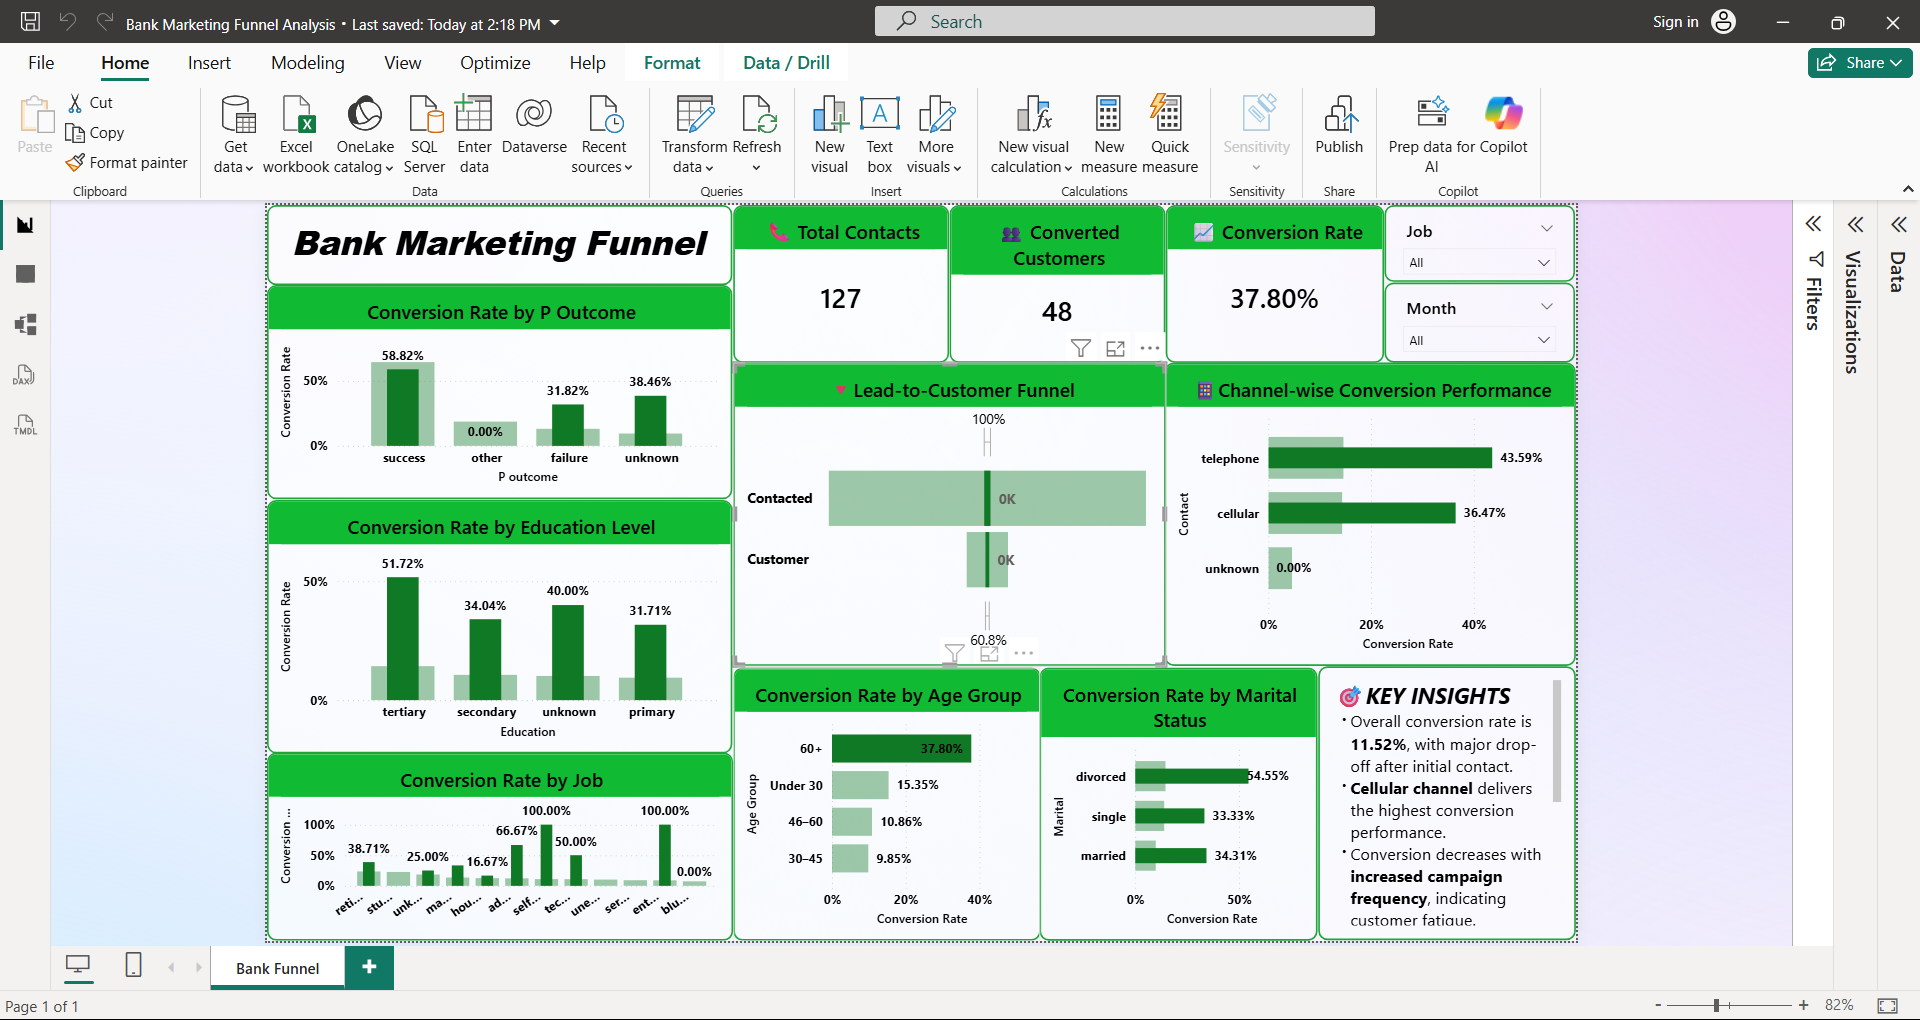

The dashboard page shown, as its layout file describes it:
{"tool":"powerbi","page":{"name":"Page 1","canvas":[1280,720],"ordinal":0},"visuals":[{"type":"card","title":"Total Contacts","fields":{"Values":["Cleaned_Bank_data.Total Contacts"]},"box":[455.6,0,211.3,153.7],"z":0},{"type":"card","title":"Converted Customers","fields":{"Values":["Cleaned_Bank_data.Total Customers"]},"box":[666.9,0,219.6,153.7],"z":1000},{"type":"card","title":"Conversion Rate","fields":{"Values":["Cleaned_Bank_data.Conversion Rate"]},"box":[886.6,0,210.3,154.1],"z":2000},{"type":"funnel","title":"Lead-to-Customer Funnel","fields":{"Y":["Cleaned_Bank_data.Funnel Count"],"Category":["Cleaned_Bank_data.Funnel Stage"]},"box":[455.6,153.7,413,299.1],"z":3000},{"type":"clusteredBarChart","title":"Channel-wise Conversion Performance","fields":{"Category":["Cleaned_Bank_data.Contact"],"Y":["Cleaned_Bank_data.Conversion Rate"]},"box":[868.6,153.7,411.7,299.1],"z":4000},{"type":"slicer","fields":{"Values":["Cleaned_Bank_data.Month"]},"box":[1093.7,75.5,186.6,78.2],"z":5000},{"type":"slicer","fields":{"Values":["Cleaned_Bank_data.Job"]},"box":[1093.7,0,186.6,75.5],"z":6000},{"type":"clusteredBarChart","title":"Conversion Rate by Marital Status","fields":{"Category":["Cleaned_Bank_data.Marital"],"Y":["Cleaned_Bank_data.Conversion Rate"]},"box":[756.1,452.8,271.7,267.6],"z":7000},{"type":"clusteredColumnChart","title":"Conversion Rate by Education Level","fields":{"Category":["Cleaned_Bank_data.Education"],"Y":["Cleaned_Bank_data.Conversion Rate"]},"box":[0,288.2,455.6,248.4],"z":8000},{"type":"clusteredBarChart","fields":{"Category":["Cleaned_Bank_data.Age Group"],"Y":["Cleaned_Bank_data.Conversion Rate"]},"box":[455.6,452.8,300.5,267.6],"z":9000},{"type":"clusteredColumnChart","title":"Conversion Rate by P Outcome","fields":{"Y":["Cleaned_Bank_data.Conversion Rate"],"Category":["Cleaned_Bank_data.P out Come"]},"box":[0,78.2,455.6,209.9],"z":10000},{"type":"textbox","title":"Bank Marketing Funnel","box":[0,0,455.6,78.2],"z":11000},{"type":"clusteredColumnChart","fields":{"Category":["Cleaned_Bank_data.Job"],"Y":["Cleaned_Bank_data.Conversion Rate"]},"box":[0,536,456,184],"z":12000},{"type":"textbox","box":[1028.4,451.2,251.9,267.8],"z":13000}]}

Visuals, with their boxes on the page's 1280x720 design canvas (x1, y1, x2, y2). These are canvas units, not pixel positions in the 1920x1020 screenshot, which may show the page scaled, cropped or inside an application window:
"Total Contacts" card: l=456, t=0, r=667, b=154
"Converted Customers" card: l=667, t=0, r=886, b=154
"Conversion Rate" card: l=887, t=0, r=1097, b=154
"Lead-to-Customer Funnel" funnel: l=456, t=154, r=869, b=453
"Channel-wise Conversion Performance" clusteredBarChart: l=869, t=154, r=1280, b=453
slicer - Cleaned_Bank_data.Month: l=1094, t=76, r=1280, b=154
slicer - Cleaned_Bank_data.Job: l=1094, t=0, r=1280, b=76
"Conversion Rate by Marital Status" clusteredBarChart: l=756, t=453, r=1028, b=720
"Conversion Rate by Education Level" clusteredColumnChart: l=0, t=288, r=456, b=537
clusteredBarChart - Cleaned_Bank_data.Age Group x Cleaned_Bank_data.Conversion Rate: l=456, t=453, r=756, b=720
"Conversion Rate by P Outcome" clusteredColumnChart: l=0, t=78, r=456, b=288
"Bank Marketing Funnel" textbox: l=0, t=0, r=456, b=78
clusteredColumnChart - Cleaned_Bank_data.Job x Cleaned_Bank_data.Conversion Rate: l=0, t=536, r=456, b=720
textbox: l=1028, t=451, r=1280, b=719
